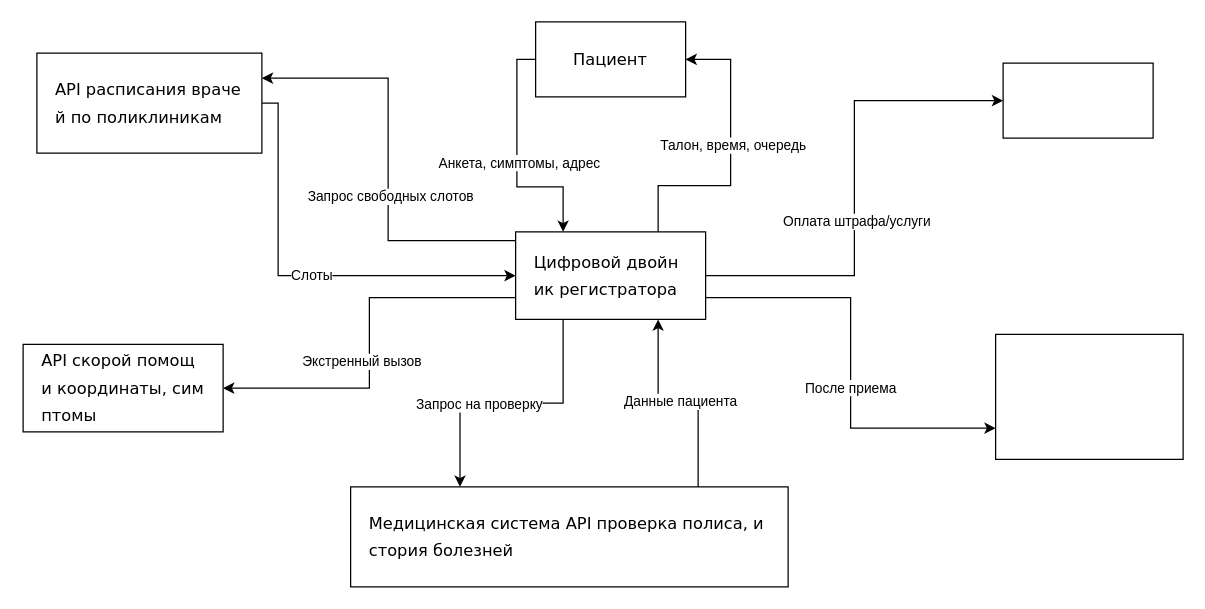
The diagram is 1205 pixels wide and 609 high, and some of its shapes have lost their labels. Each missing label, with the box of its shape:
API страховой компании факт обслуживания: (994, 333, 1183, 459)
Платёжный шлюз: (1002, 62, 1153, 138)
